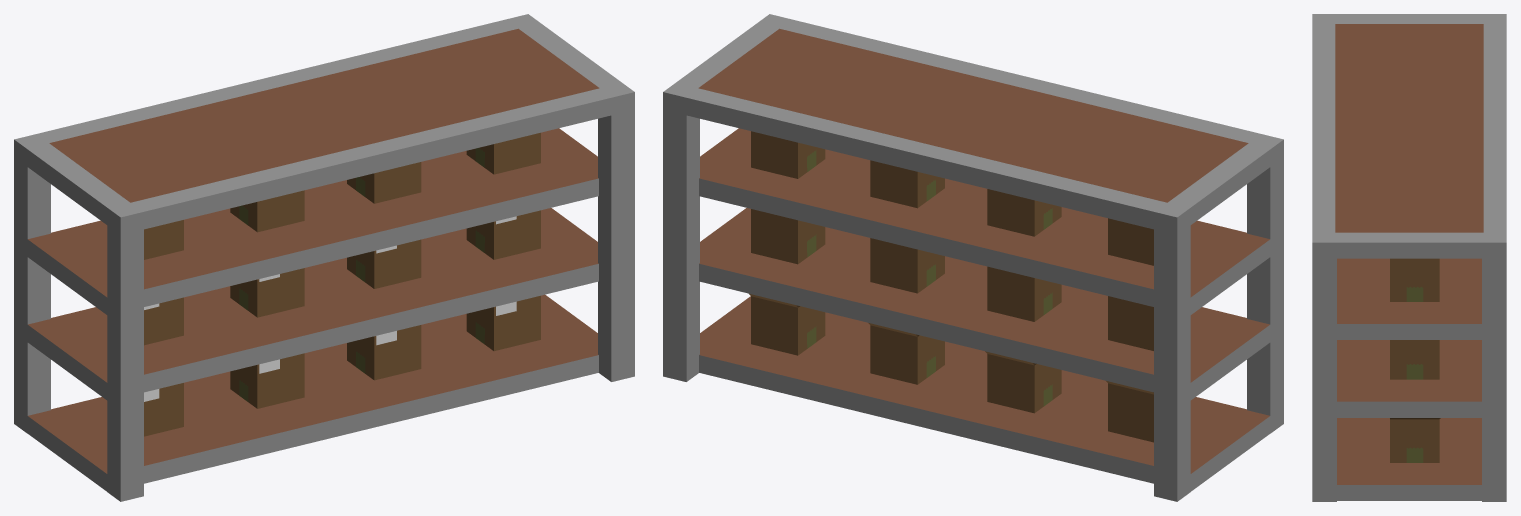
File: Shelf.fbx
3 renders of one model, left to right at view 1: azimuth 30°, elevation 25°; view 2: azimuth 150°, elevation 25°; view 3: azimuth 270°, elevation 25°, orthographic. The views are drawn at different scales.
Parts seen in each view (by area): view 1: Shelf, Box_open.011, Box_open.010, Box_open.012, Box_open.006, Box_open.007, Box_open.005, Box_open.002, Box_open.003, Box_open.004, Box_open.009, Box_open.008 (+1 smaller); view 2: Shelf, Box_open.011, Box_open.010, Box_open.012, Box_open.006, Box_open.007, Box_open.005, Box_open.003, Box_open.002, Box_open.004, Box_open.009, Box_open.008 (+1 smaller); view 3: Shelf, Box_open.012, Box_open.004, Box_open.005.
Part boxes in pixels (box(x1,y1,x2,y2)): Shelf: box(14, 14, 634, 501); Box_open.011: box(347, 325, 421, 380); Box_open.010: box(230, 353, 304, 408); Box_open.012: box(466, 295, 540, 351); Box_open.006: box(347, 239, 421, 288); Box_open.007: box(230, 268, 304, 317); Box_open.005: box(466, 210, 540, 259); Box_open.002: box(230, 190, 304, 232); Box_open.003: box(347, 162, 421, 203); Box_open.004: box(466, 132, 540, 174); Box_open.009: box(144, 383, 183, 436); Box_open.008: box(144, 297, 183, 345); Shelf: box(663, 14, 1283, 501); Box_open.011: box(868, 323, 944, 384); Box_open.010: box(985, 351, 1061, 413); Box_open.012: box(749, 293, 825, 355); Box_open.006: box(870, 238, 944, 293); Box_open.007: box(987, 266, 1061, 321); Box_open.005: box(751, 209, 825, 264); Box_open.003: box(870, 160, 944, 208); Box_open.002: box(987, 189, 1061, 236); Box_open.004: box(751, 131, 825, 178); Box_open.009: box(1106, 381, 1153, 442); Box_open.008: box(1108, 296, 1153, 350); Shelf: box(1312, 14, 1506, 501); Box_open.012: box(1389, 418, 1440, 462); Box_open.004: box(1390, 258, 1439, 301); Box_open.005: box(1390, 340, 1439, 379).
Size of the model in its own units: 425 by 225 by 153.
